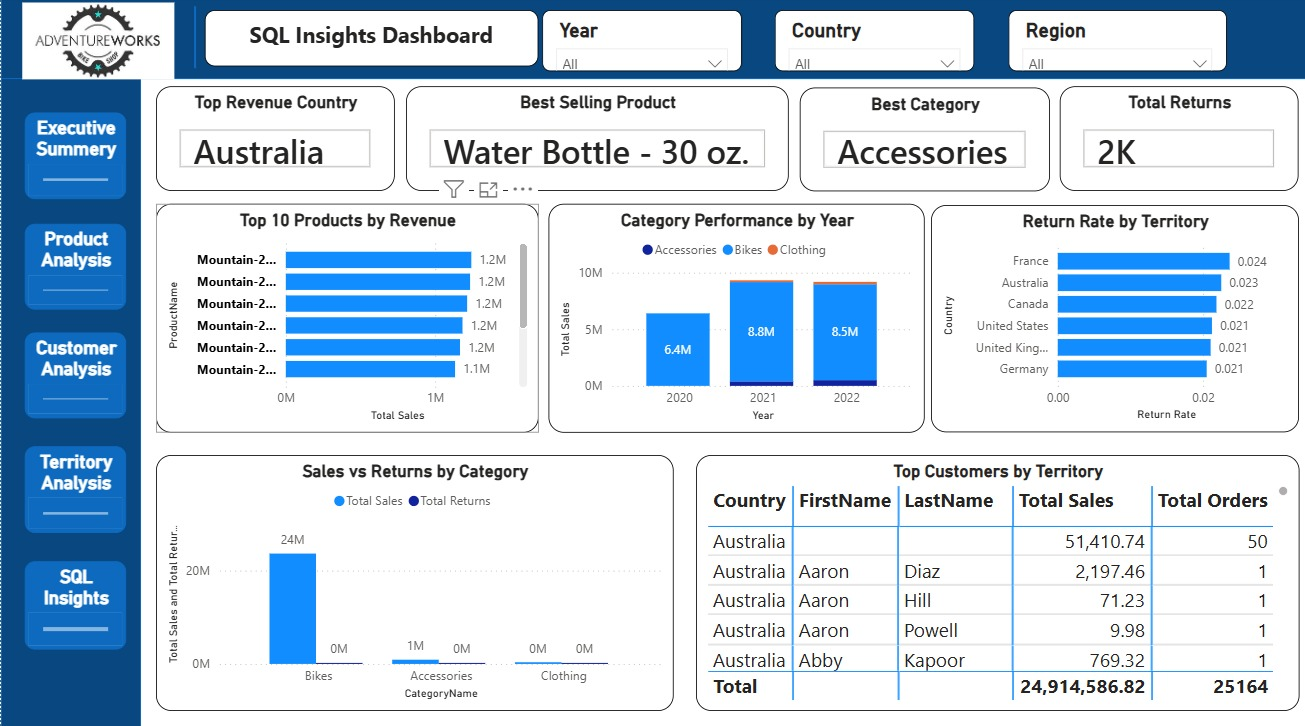

This screenshot's page, from the dashboard's own definition file:
{"tool":"powerbi","page":{"name":"SQL Insights","canvas":[1280,720],"ordinal":4},"visuals":[{"type":"shape","box":[0,4.3,137.1,715.6],"z":0},{"type":"shape","box":[0,0,1279.7,82.2],"z":1000},{"type":"image","box":[0,7.2,190.4,75],"z":2000},{"type":"slicer","fields":{"Values":["dimdate.Year"]},"box":[530,15,195,60],"z":8000},{"type":"slicer","fields":{"Values":["dimterritory.Country"]},"box":[756.7,15,195,60],"z":9000},{"type":"slicer","fields":{"Values":["dimterritory.Region"]},"box":[985,15,213.3,60],"z":10000},{"type":"shape","box":[151.5,11.5,76.5,60.6],"z":11000},{"type":"textbox","box":[199.1,14.4,326.1,54.8],"z":12000},{"type":"cardVisual","title":"Top Revenue Country","fields":{"Data":["Min(dimterritory.Country)"]},"box":[151.6,89.3,233.6,102.7],"z":13000},{"type":"cardVisual","title":"Best Selling Product","fields":{"Data":["dimproduct.Best Selling Product"]},"box":[396.2,89.3,374.2,102.7],"z":14000},{"type":"cardVisual","title":"Best Category","fields":{"Data":["dimproductcategory.Best Category"]},"box":[781.4,90.5,244.6,101.5],"z":15000},{"type":"cardVisual","title":"Total Returns","fields":{"Data":["factreturn.Total Returns"]},"box":[1035.7,89.3,233.6,102.7],"z":16000},{"type":"clusteredBarChart","title":"Top 10 Products by Revenue","fields":{"Category":["dimproduct.ProductName"],"Y":["factsales.Total Sales"]},"box":[152,204,374,224],"z":17000},{"type":"columnChart","title":"Category Performance by Year","fields":{"Category":["dimdate.Year"],"Series":["dimproductcategory.CategoryName"],"Y":["factsales.Total Sales"]},"box":[535.6,204.2,368.1,223.8],"z":18000},{"type":"clusteredBarChart","title":"Return Rate by Territory","fields":{"Category":["dimterritory.Country"],"Y":["factreturn.Return Rate"]},"box":[910,206,360,222],"z":19000},{"type":"tableEx","title":"Top Customers by Territory","fields":{"Values":["dimterritory.Country","dimcustomer.FirstName","dimcustomer.LastName","factsales.Total Sales","factsales.Total Orders"]},"box":[680,450,590,250],"z":20000},{"type":"clusteredColumnChart","title":"Sales vs Returns by Category","fields":{"Category":["dimproductcategory.CategoryName"],"Y":["factsales.Total Sales","factreturn.Total Returns"]},"box":[152,450,506,250],"z":21000},{"type":"actionButton","title":"Executive Summery","box":[23.1,115.4,99.6,85.1],"z":21001},{"type":"actionButton","title":"Product Analysis","box":[23.1,223.6,99.6,83.7],"z":21002},{"type":"actionButton","title":"Customer Analysis","box":[23.1,330.4,99.6,83.7],"z":21003},{"type":"actionButton","title":"Territory Analysis","box":[23.1,441.5,99.6,85.1],"z":21004},{"type":"actionButton","title":"SQL Insights","box":[23.1,554,99.6,86.6],"z":21005}]}

Visuals, with their boxes in screenshot pixels (x1, y1, x2, y2), scaled from the page's 1280x720 canvas onto the 1305x726 screenshot:
shape: {"left": 0, "top": 4, "right": 140, "bottom": 725}
shape: {"left": 0, "top": 0, "right": 1304, "bottom": 83}
image: {"left": 0, "top": 7, "right": 194, "bottom": 83}
slicer - dimdate.Year: {"left": 540, "top": 15, "right": 739, "bottom": 76}
slicer - dimterritory.Country: {"left": 771, "top": 15, "right": 970, "bottom": 76}
slicer - dimterritory.Region: {"left": 1004, "top": 15, "right": 1222, "bottom": 76}
shape: {"left": 154, "top": 12, "right": 232, "bottom": 73}
textbox: {"left": 203, "top": 15, "right": 535, "bottom": 70}
"Top Revenue Country" cardVisual: {"left": 155, "top": 90, "right": 393, "bottom": 194}
"Best Selling Product" cardVisual: {"left": 404, "top": 90, "right": 785, "bottom": 194}
"Best Category" cardVisual: {"left": 797, "top": 91, "right": 1046, "bottom": 194}
"Total Returns" cardVisual: {"left": 1056, "top": 90, "right": 1294, "bottom": 194}
"Top 10 Products by Revenue" clusteredBarChart: {"left": 155, "top": 206, "right": 536, "bottom": 432}
"Category Performance by Year" columnChart: {"left": 546, "top": 206, "right": 921, "bottom": 432}
"Return Rate by Territory" clusteredBarChart: {"left": 928, "top": 208, "right": 1295, "bottom": 432}
"Top Customers by Territory" tableEx: {"left": 693, "top": 454, "right": 1295, "bottom": 706}
"Sales vs Returns by Category" clusteredColumnChart: {"left": 155, "top": 454, "right": 671, "bottom": 706}
"Executive Summery" actionButton: {"left": 24, "top": 116, "right": 125, "bottom": 202}
"Product Analysis" actionButton: {"left": 24, "top": 225, "right": 125, "bottom": 310}
"Customer Analysis" actionButton: {"left": 24, "top": 333, "right": 125, "bottom": 418}
"Territory Analysis" actionButton: {"left": 24, "top": 445, "right": 125, "bottom": 531}
"SQL Insights" actionButton: {"left": 24, "top": 559, "right": 125, "bottom": 646}
